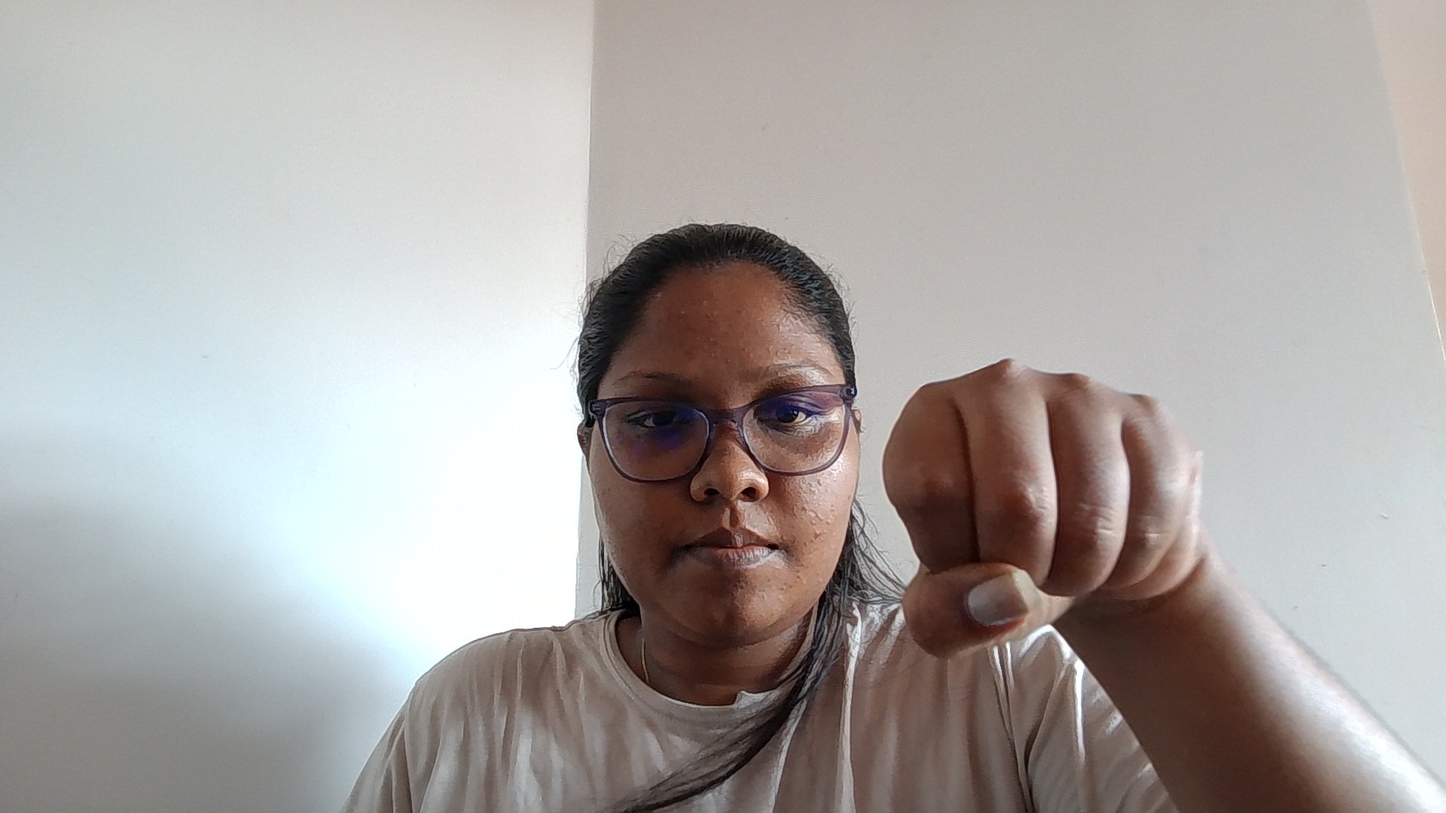Yes: (887, 337, 1235, 744)
